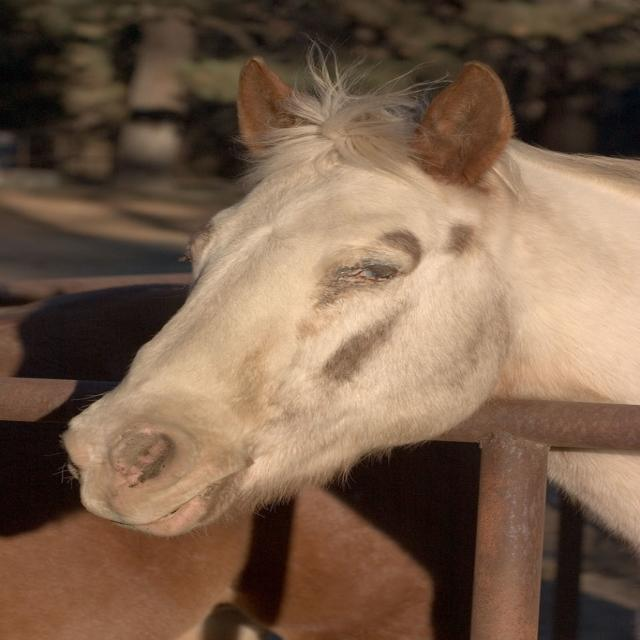Horse: (60, 28, 640, 556), (0, 285, 474, 639)
